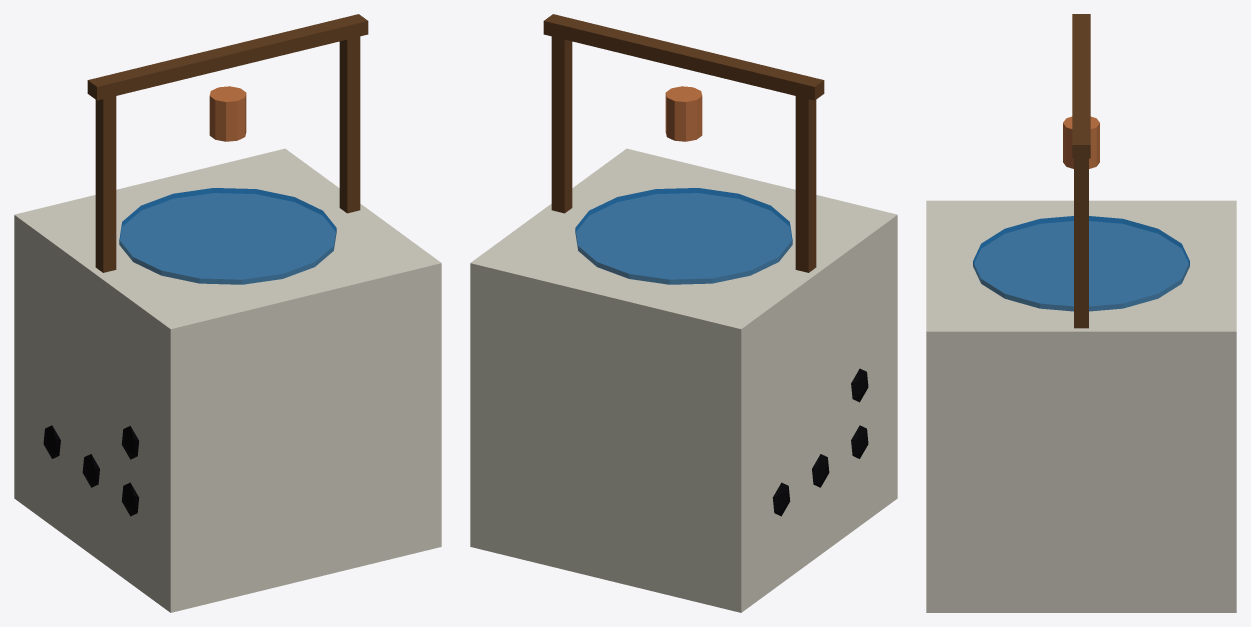
Rendered from Bld_OR_DiceWell_03.glb.
3 views of the same model, side by side, from view 1: azimuth 30°, elevation 25°; view 2: azimuth 150°, elevation 25°; view 3: azimuth 270°, elevation 25° (orthographic).
Visible parts, largest first — view 1: Bld_OR_DiceWell_03; view 2: Bld_OR_DiceWell_03; view 3: Bld_OR_DiceWell_03.
Boxes of the visible parts, x1,y1,x2,y2 form: Bld_OR_DiceWell_03: (14, 14, 441, 612); Bld_OR_DiceWell_03: (470, 14, 897, 612); Bld_OR_DiceWell_03: (926, 14, 1236, 612).
Size of the model in its own units: 2.53 by 4.16 by 2.5.
